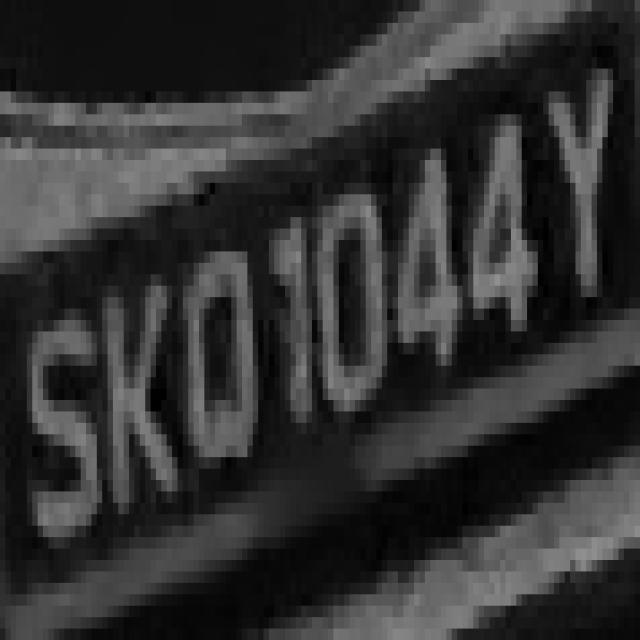0: (306, 149, 404, 434)
1: (264, 171, 322, 480)
4: (441, 69, 543, 400), (382, 115, 462, 412)
K: (86, 240, 172, 514)
Q: (167, 205, 269, 526)
S: (11, 286, 97, 548)
Y: (532, 46, 618, 320)
